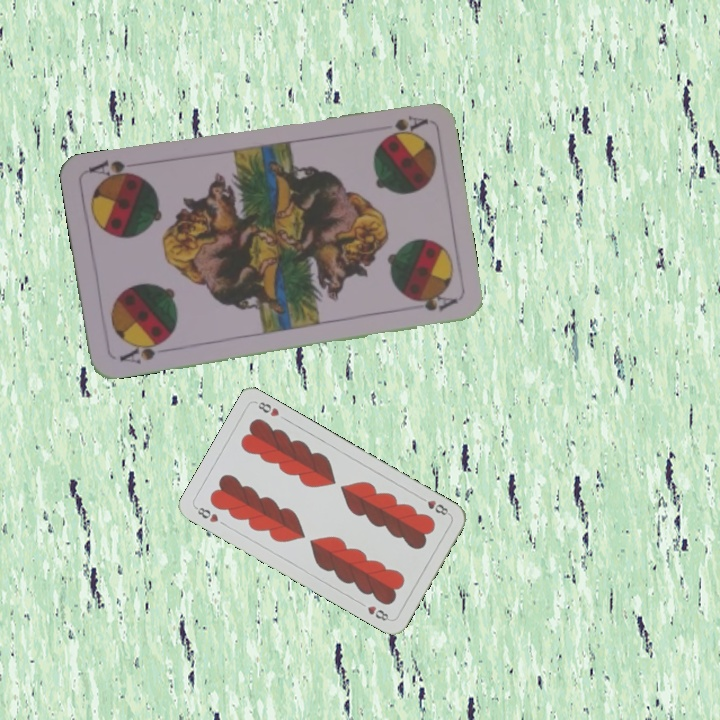H8: (415, 493, 453, 518), (192, 503, 221, 525)
SA: (115, 335, 170, 366), (378, 112, 430, 142)
